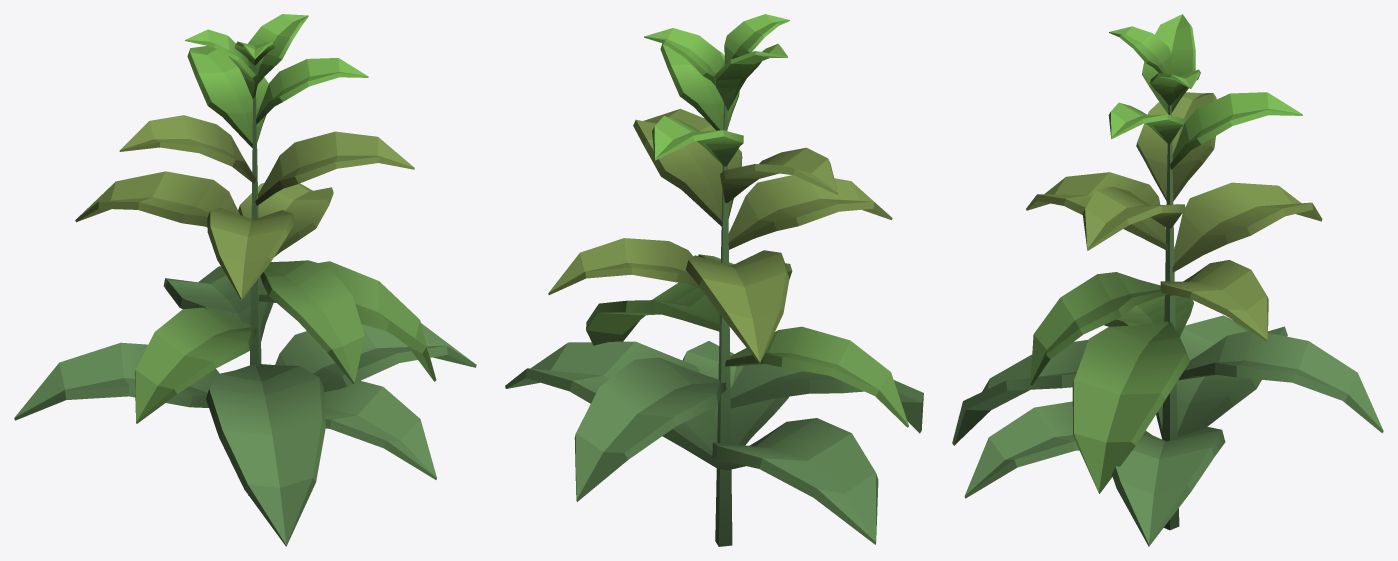
Rendered from ShrubTall-01.FBX.
3 renders of one model, left to right at view 1: azimuth 30°, elevation 25°; view 2: azimuth 150°, elevation 25°; view 3: azimuth 270°, elevation 25°, orthographic. The views are drawn at different scales.
Visible parts, largest first — view 1: ShrubTall-01; view 2: ShrubTall-01; view 3: ShrubTall-01.
Boxes of the visible parts, x1,y1,x2,y2 form: ShrubTall-01: (14, 14, 476, 546); ShrubTall-01: (505, 14, 923, 546); ShrubTall-01: (952, 14, 1383, 546).
Bounding box in the file's own units: 144 × 161 × 130.
Materials: 1 (1 with a texture image).
